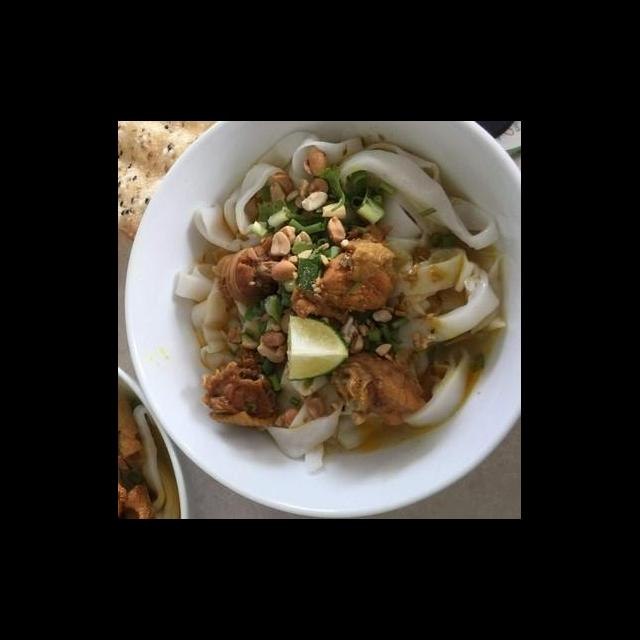mi: (186, 126, 502, 254), (378, 234, 508, 432), (260, 362, 380, 472), (172, 259, 266, 378)
thit ga: (286, 224, 398, 324), (320, 343, 430, 434), (196, 344, 304, 434)
